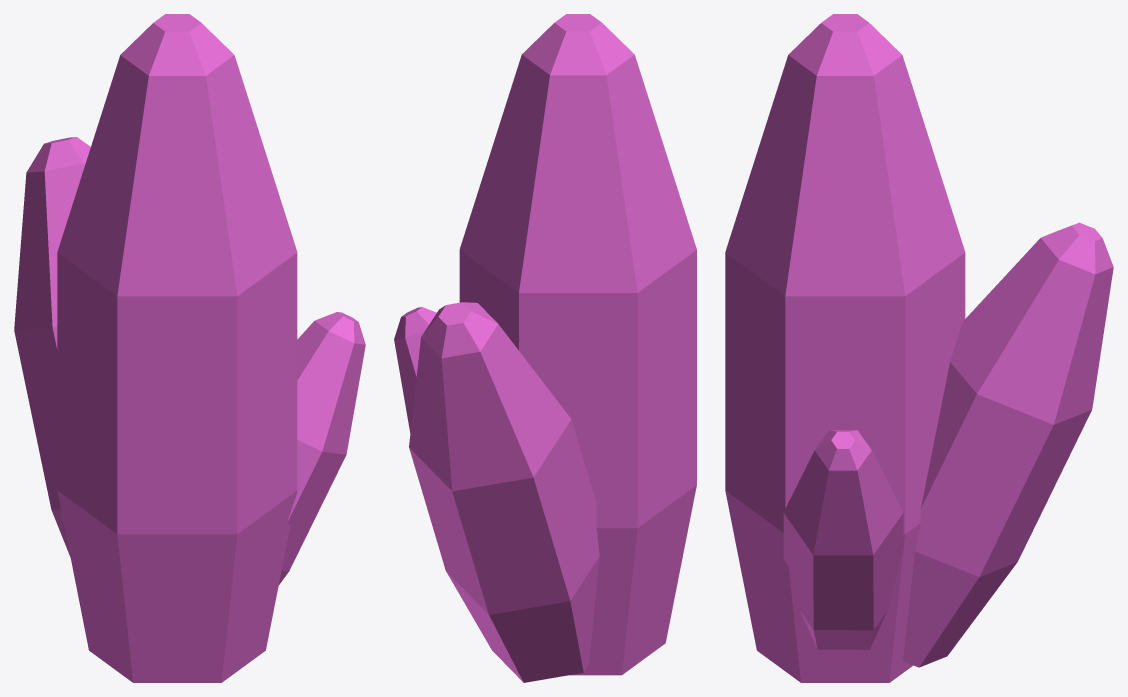
The model's file is Crystal.fbx.
The picture shows the model from 3 angles, left to right: view 1: azimuth 30°, elevation 25°; view 2: azimuth 150°, elevation 25°; view 3: azimuth 270°, elevation 25°; orthographic projection.
Visible parts, largest first — view 1: Цилиндр; view 2: Цилиндр; view 3: Цилиндр.
Boxes of the visible parts, <box> form: Цилиндр: <box>14,14,365,682</box>; Цилиндр: <box>394,14,696,682</box>; Цилиндр: <box>725,14,1113,682</box>.
Size of the model in its own units: 353 by 788 by 439.
